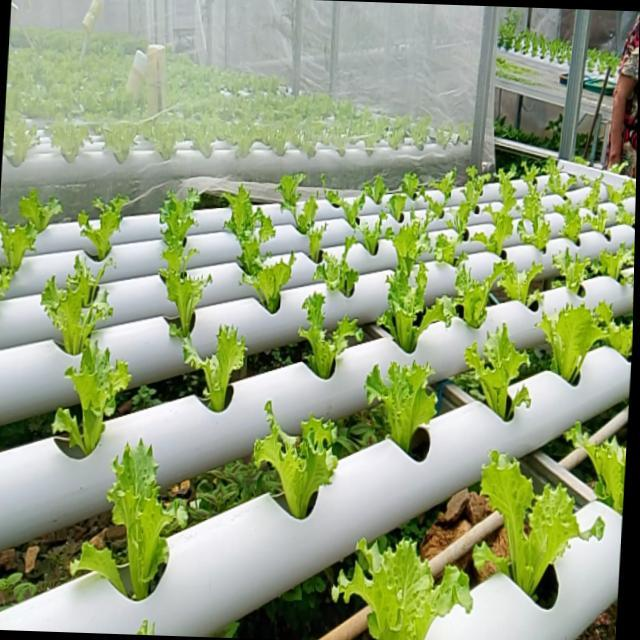Baby: (478, 448, 607, 591), (337, 536, 476, 640), (116, 440, 193, 599), (258, 402, 343, 519), (62, 343, 139, 457), (165, 193, 217, 348), (369, 363, 442, 462), (50, 259, 120, 358), (469, 325, 535, 422), (541, 301, 610, 383), (304, 295, 367, 381), (190, 328, 252, 414), (448, 260, 519, 330), (228, 189, 280, 277), (319, 239, 376, 300), (1, 221, 47, 295), (246, 257, 301, 316), (85, 200, 135, 264), (521, 168, 556, 253), (390, 215, 436, 279), (550, 159, 582, 197), (561, 200, 588, 243), (438, 235, 462, 266), (429, 192, 452, 224), (588, 177, 607, 214)
